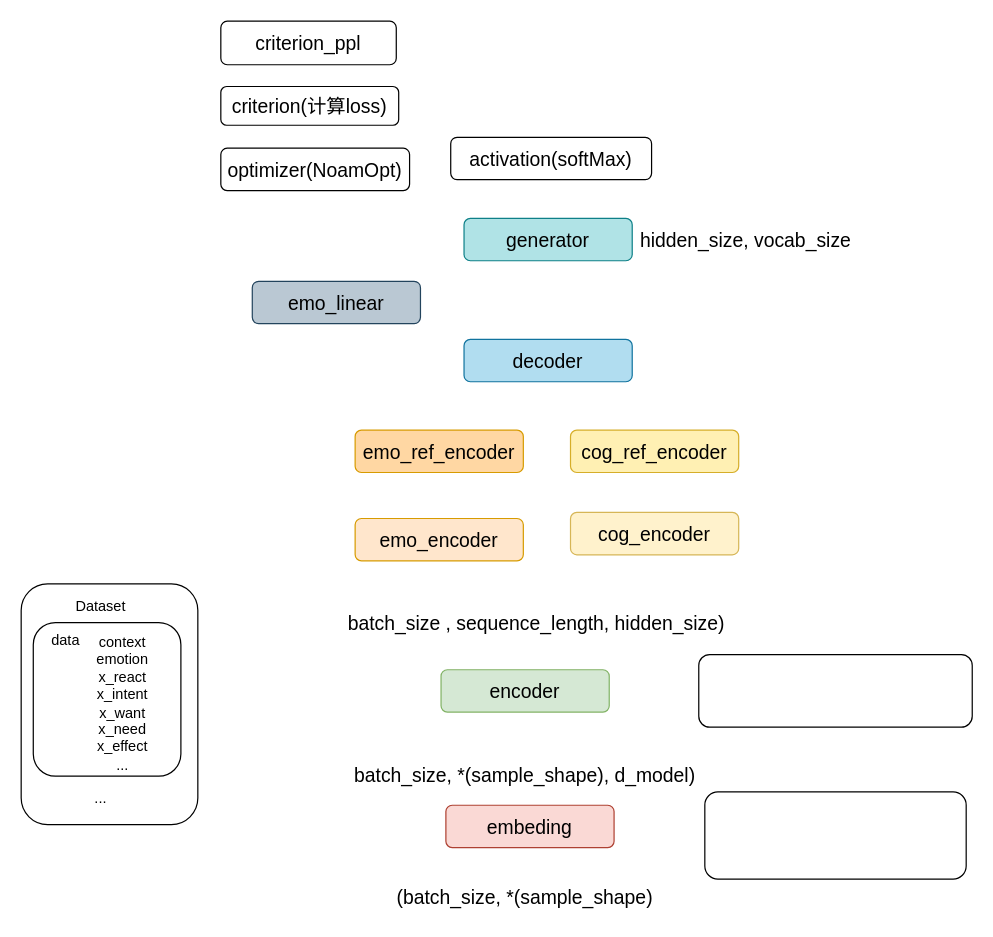
Image size: 993x937. Some labels were removed from this diagram. The centre of each missing label's shape, as x and y in pixels:
"Droupout Linear(d_model, hidden_size)" belongs at [835,690].
"lut : nn.Embedding (vocab, d_model)" belongs at [835,835].
